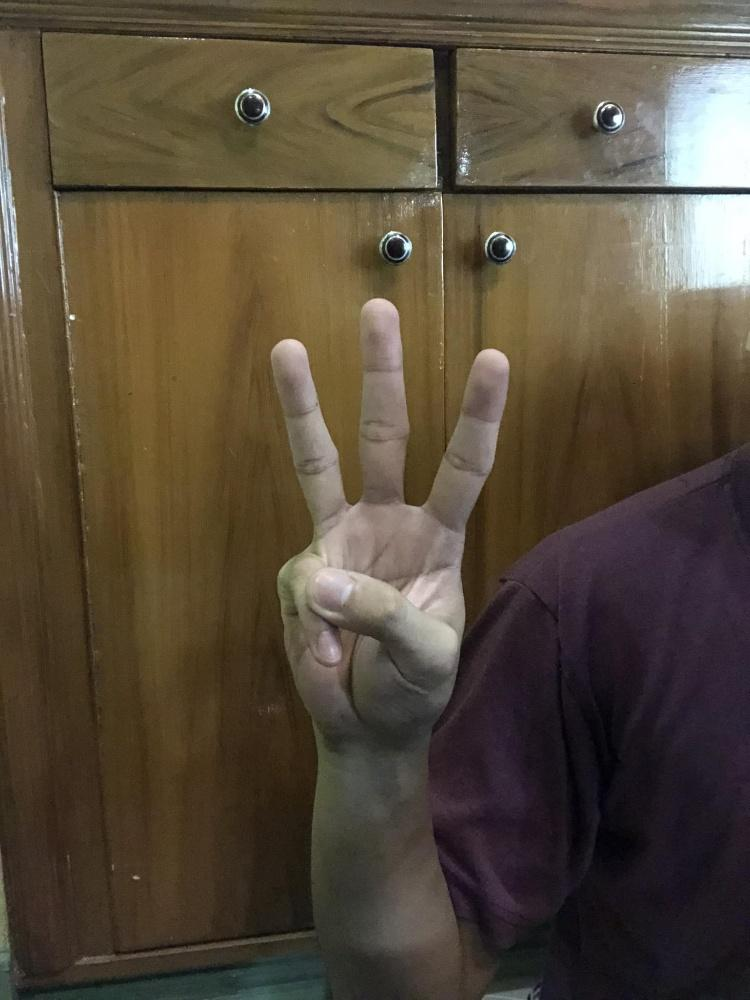w: (266, 290, 513, 743)
